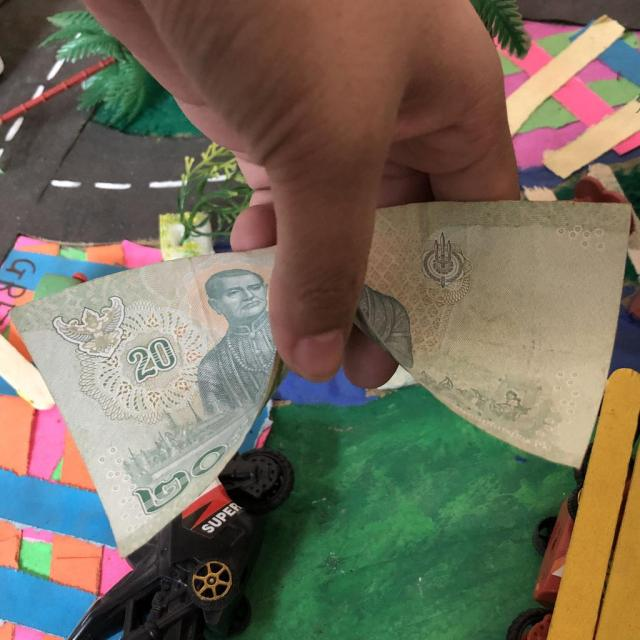THAI20: (11, 248, 287, 556), (355, 200, 630, 466)
